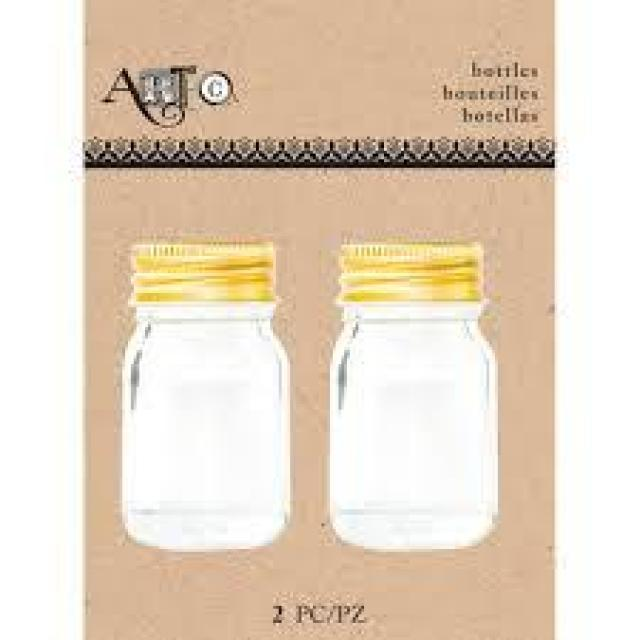Glass: (117, 241, 296, 556)
